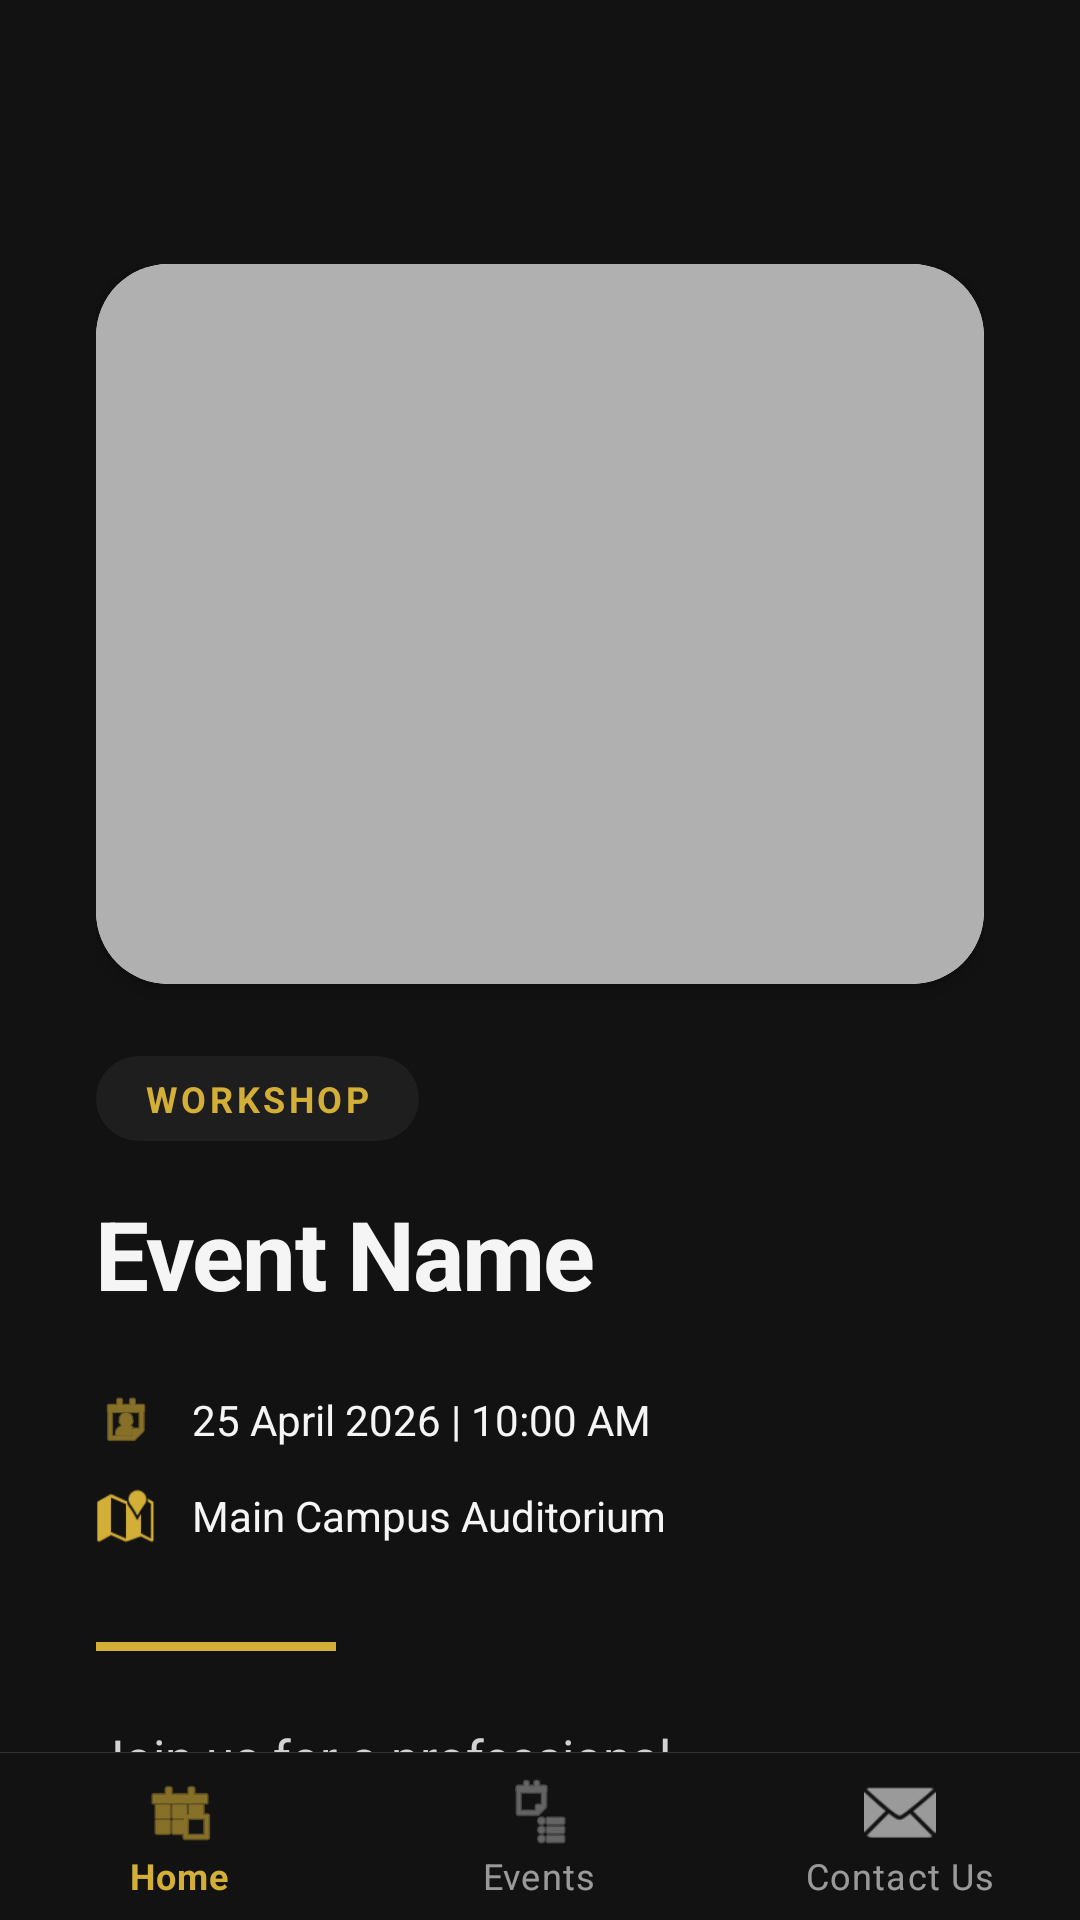

Screen size 1080×1920. Icon name, then its center in pixels as (x,y):
calendar: (126,1419)
map: (125,1516)
